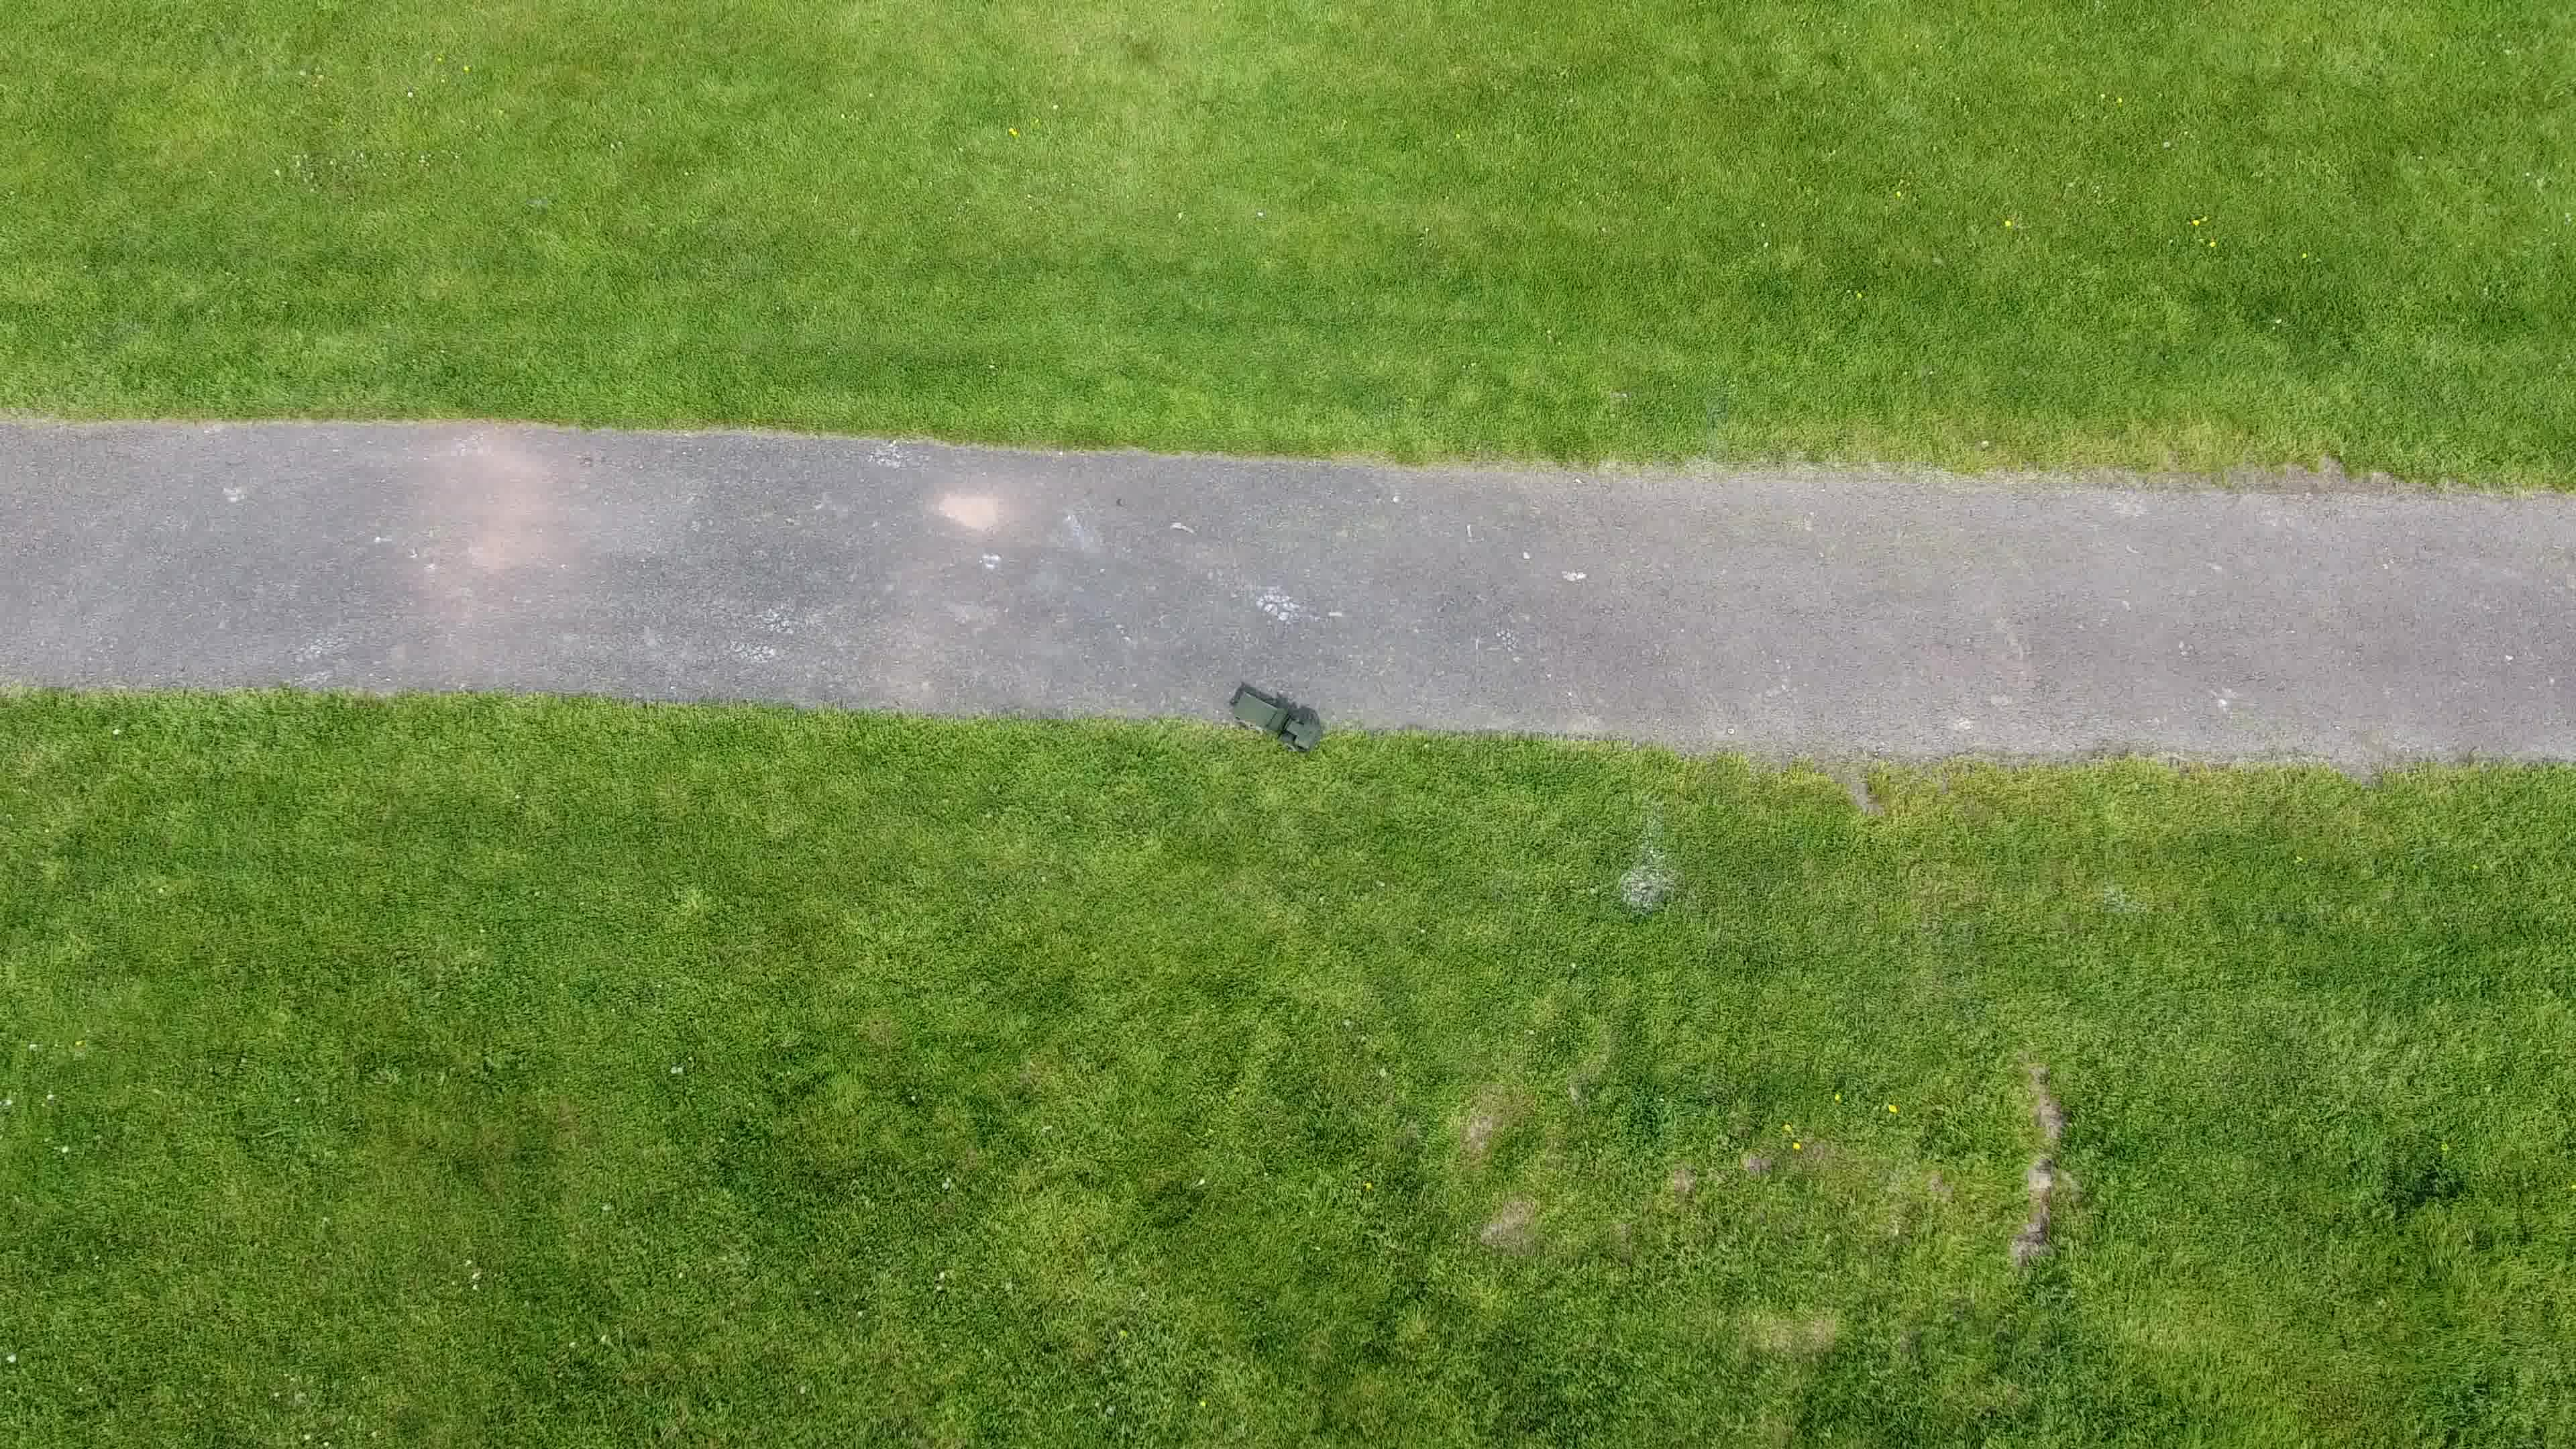transporter9: (1224, 688, 1323, 757)
